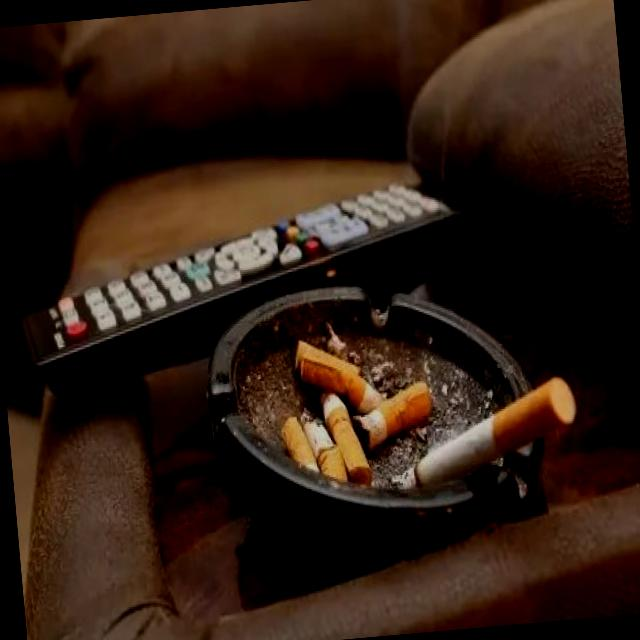smoke: (404, 365, 593, 494), (315, 381, 383, 510), (348, 366, 442, 458), (289, 328, 381, 414), (298, 404, 352, 502), (272, 400, 318, 508)
